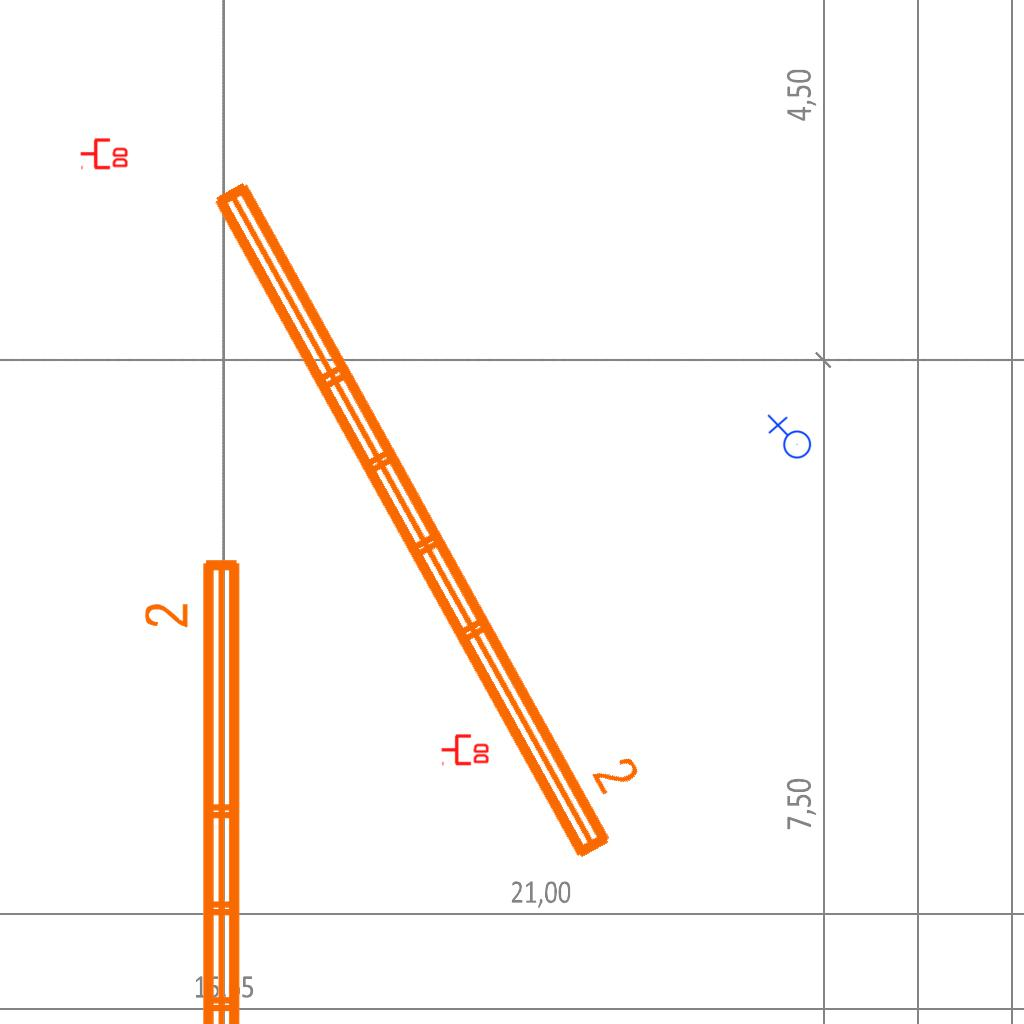Ambulanz_Pendelleuchte_LED: (197, 141, 671, 873), (140, 551, 252, 1024)
Datenanschluss_zweifach: (440, 732, 491, 766), (79, 136, 130, 170)
Elektroanschluss_allgemein_230V_Geraeteanschlussdose_230V: (765, 414, 812, 463)
